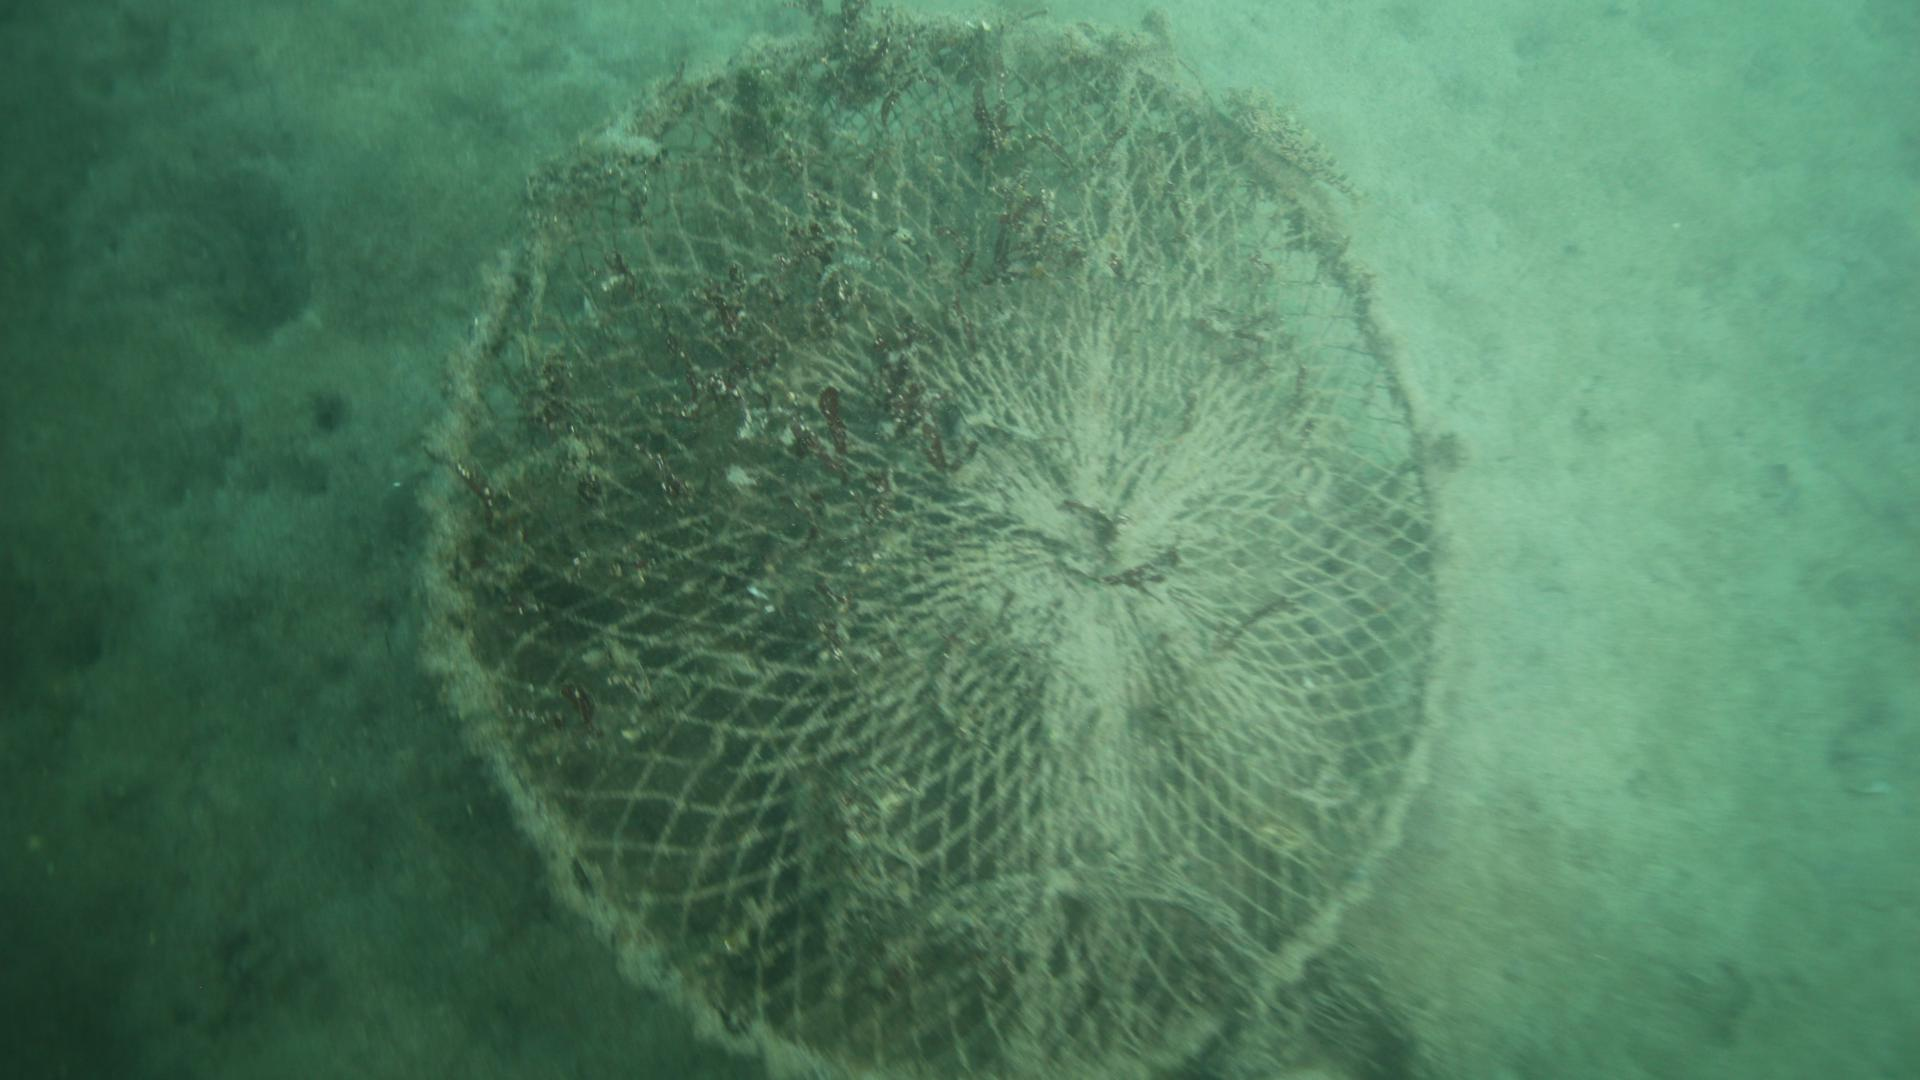circular fish trap: (423, 12, 1457, 1080)
